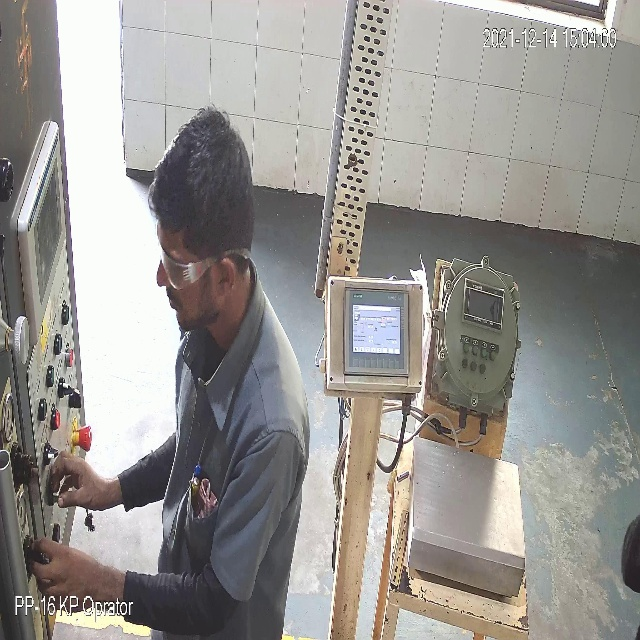Gafas: (156, 224, 238, 288)
Sin_mascara: (156, 266, 225, 331)
